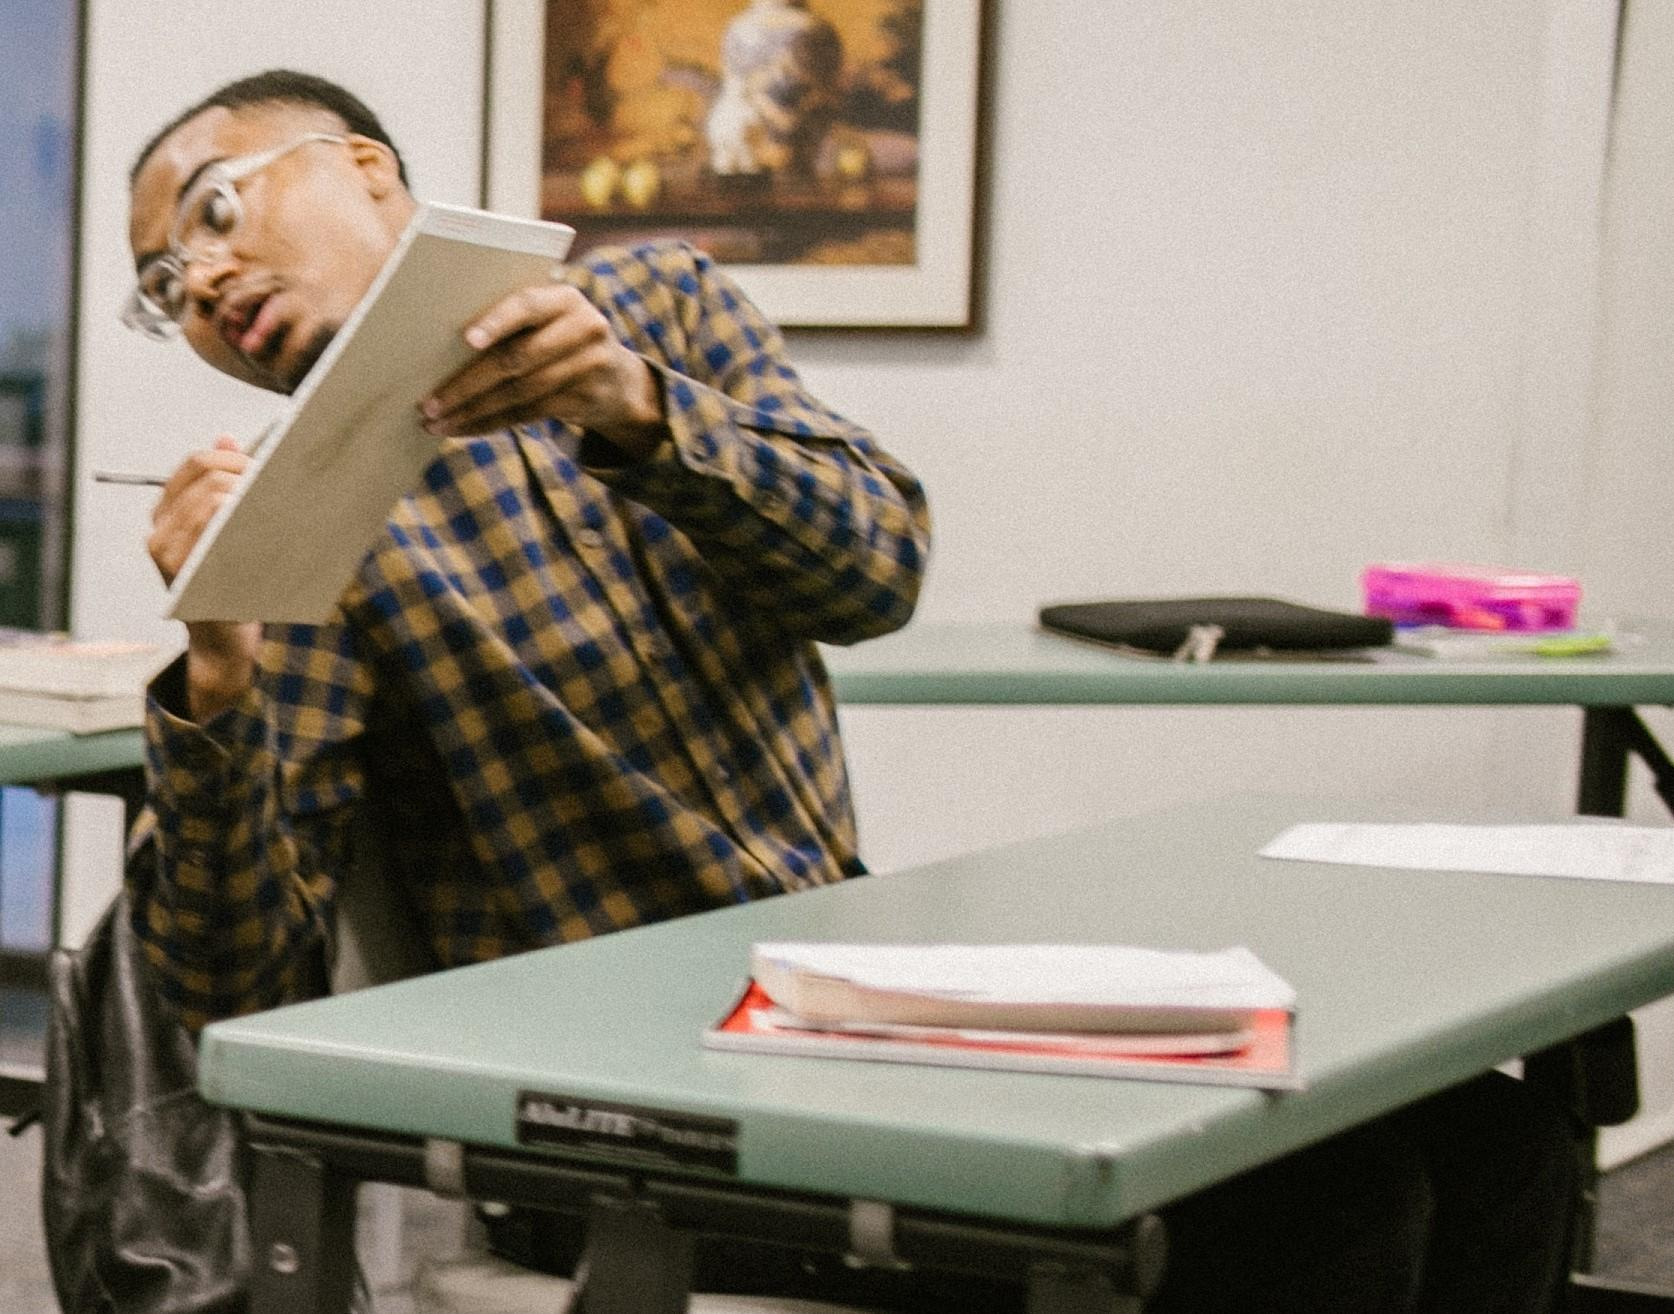cheating: (38, 35, 1008, 959)
